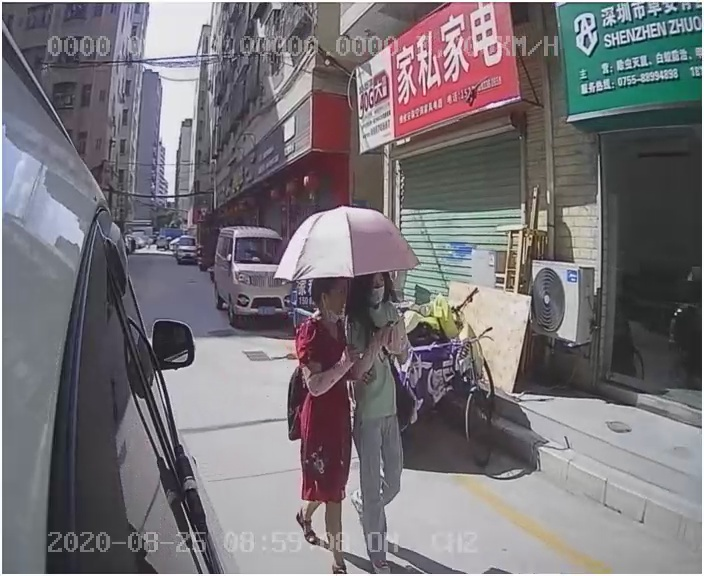person: (284, 278, 367, 542)
